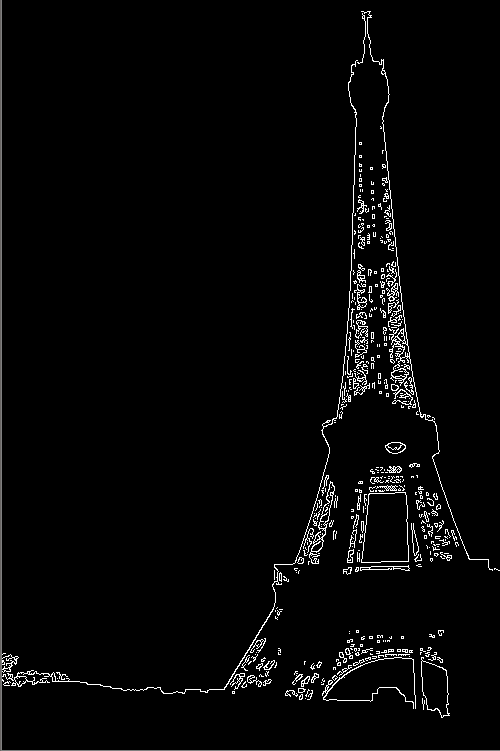eiffel tower: (254, 8, 492, 701)
